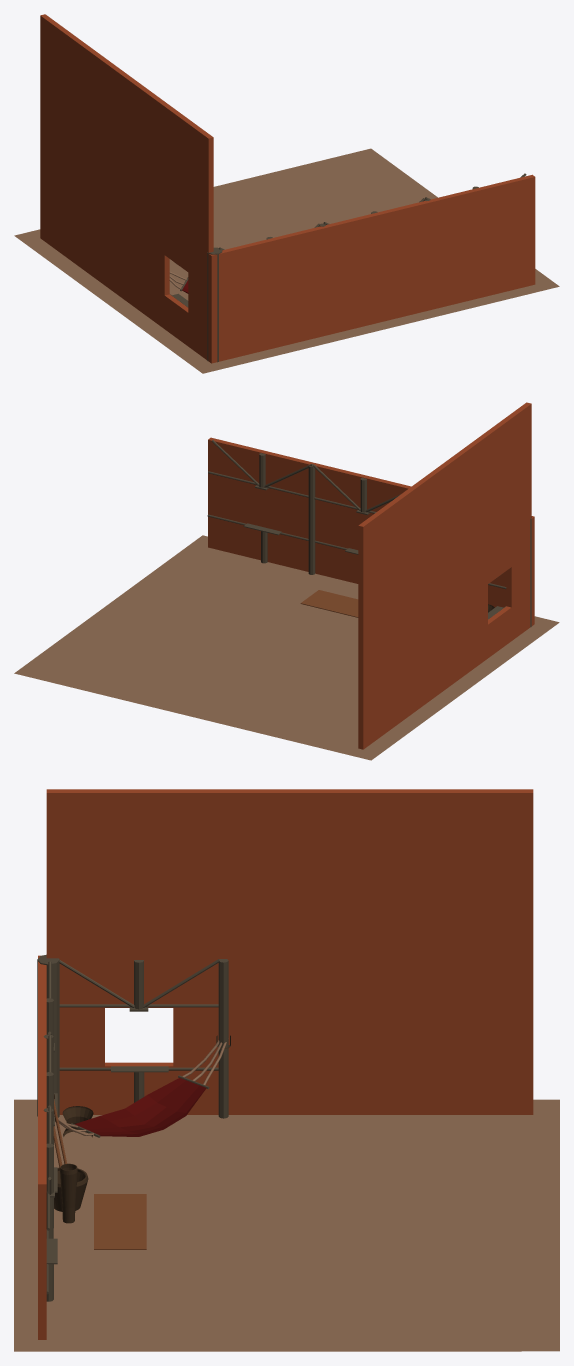
Rendered from quarto da kumari.fbx.
3 renders of one model, top to bottom at view 1: azimuth 30°, elevation 25°; view 2: azimuth 150°, elevation 25°; view 3: azimuth 270°, elevation 25°, orthographic. The views are drawn at different scales.
Visible parts, largest first — view 1: Parede, chão do quarto, vigas de madeira; view 2: Parede, chão do quarto, vigas de madeira, tapete; view 3: Parede, chão do quarto, vigas de madeira, rede, tapete, cesto.
Part boxes in pixels (x1,y1,x2,y2): Parede: (40,14,535,363); chão do quarto: (14,148,559,373); vigas de madeira: (170,173,526,362); Parede: (208,402,534,749); chão do quarto: (14,535,559,760); vigas de madeira: (207,440,531,627); tapete: (300,590,358,617); Parede: (38,789,533,1339); chão do quarto: (14,1099,559,1351); vigas de madeira: (37,954,228,1301); rede: (74,1078,206,1136); tapete: (94,1194,146,1249); cesto: (54,1106,93,1223).
Size of the model in its own units: 203 by 123 by 186.
Materials: 14 (14 with a texture image).
